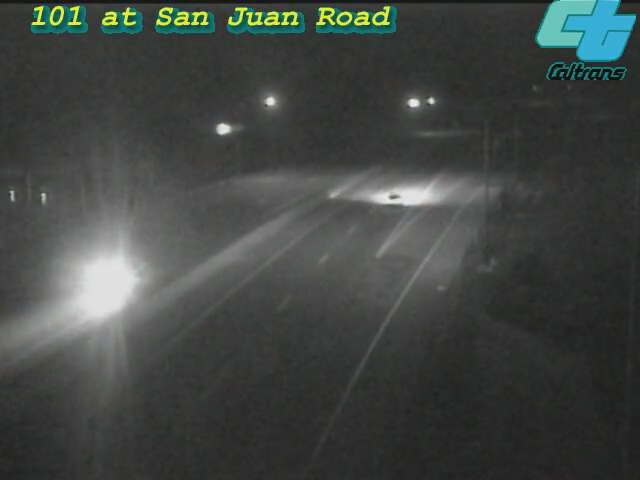vehicle: (351, 160, 431, 240), (61, 240, 141, 320)
